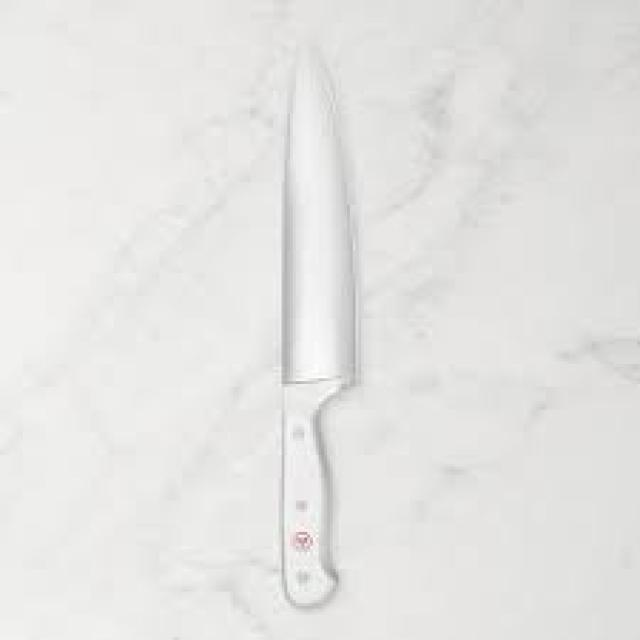Knife: (276, 31, 358, 606)
